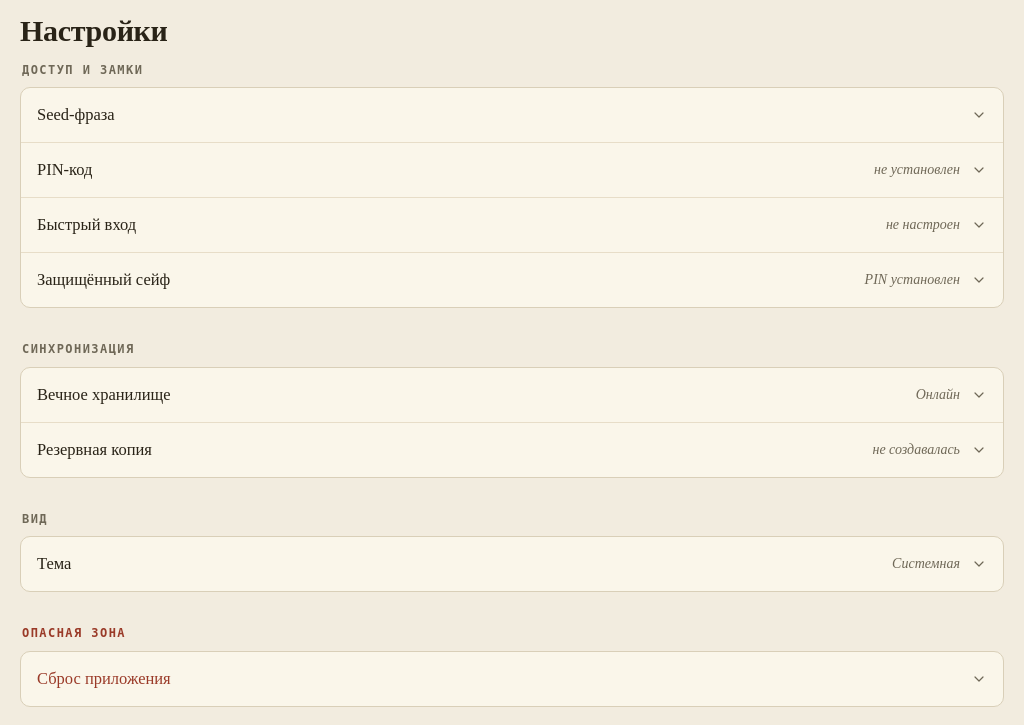
Test: SettingsSection — поля сейфа попадают под очистку при блокировке › поле seed-гейта ловится селектором
The image size is (1024, 725).
Step 1. Click the button "Seed-фраза" → [76, 115], box [21,88,1003,142]
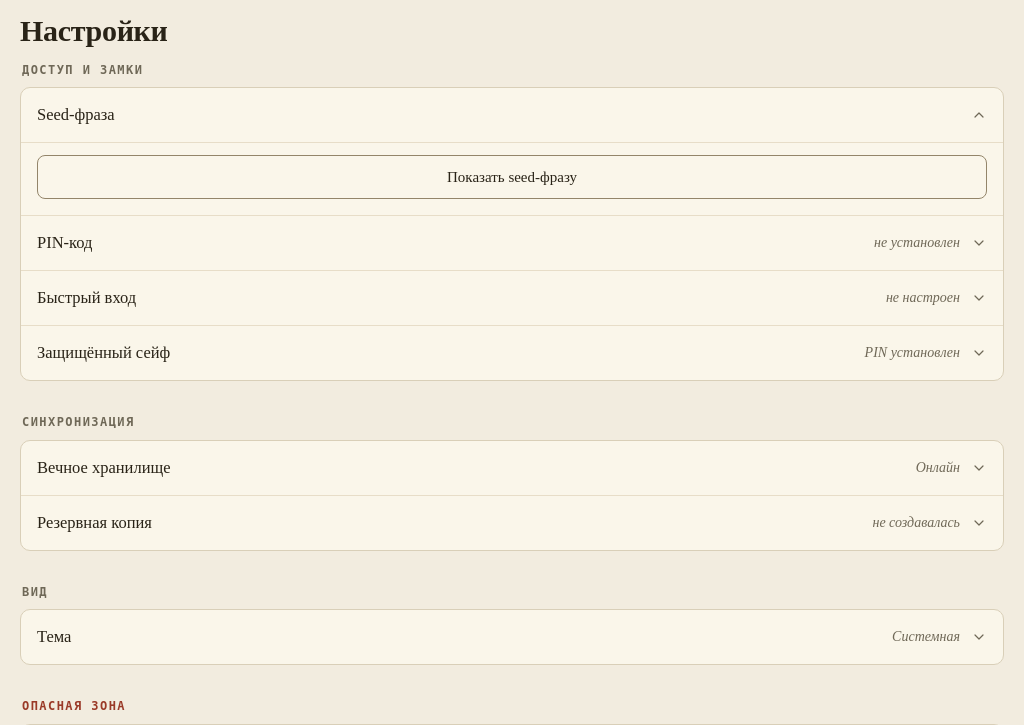
Step 2. Click the button "Показать seed-фразу" → [512, 177], box [37,155,987,199]
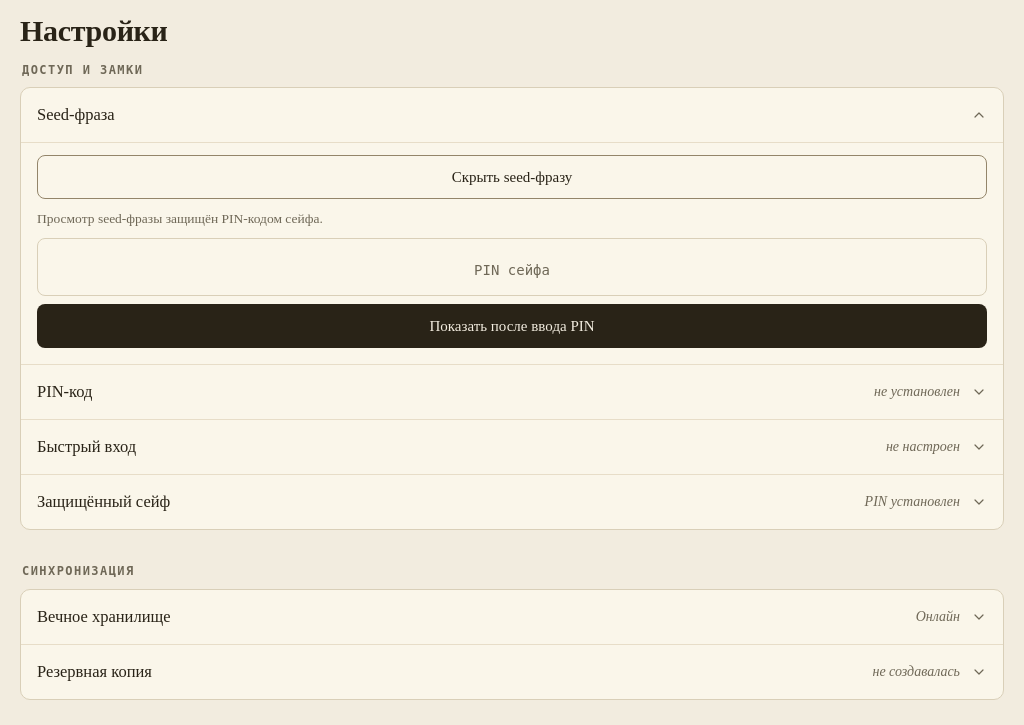
expect the password field with id "sbx-gate-seed" is shown: met, box [37,238,987,296]
